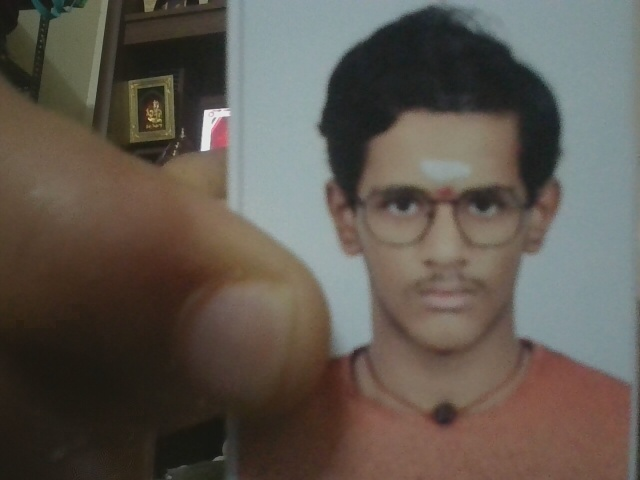fake: (319, 110, 570, 361)
